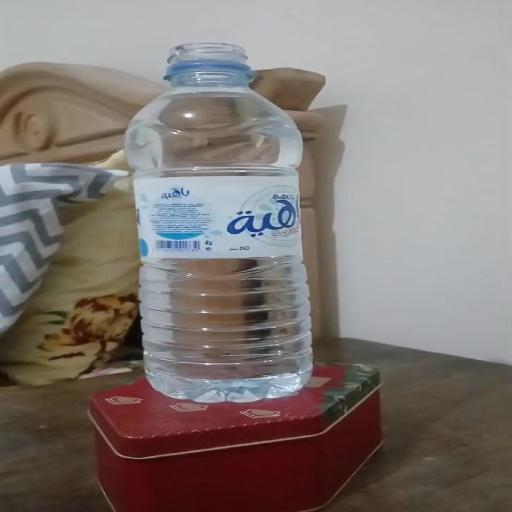bouteille non conformite: (170, 30, 318, 406)
